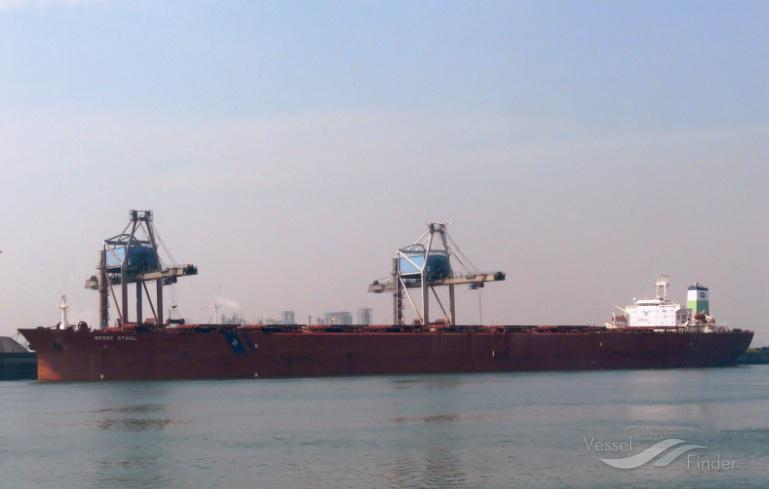OCR: (85, 333, 135, 344)
